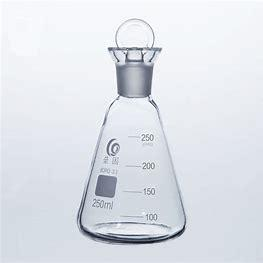Titrarion: (77, 20, 194, 241)
